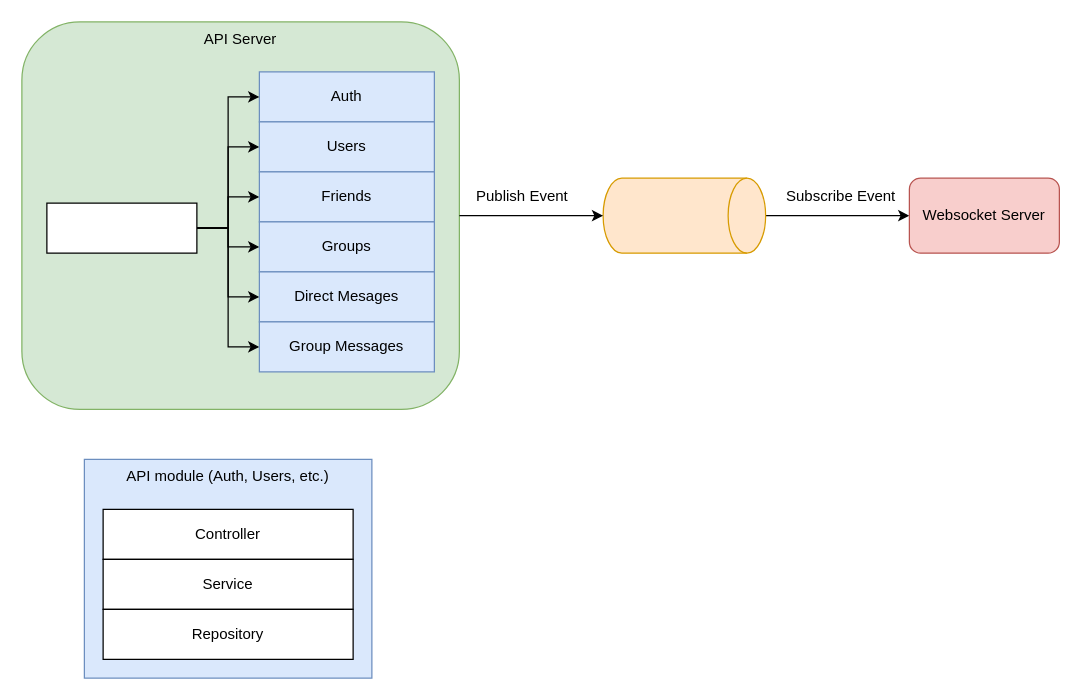
Image size: 1081x700. Some labels were removed from this diagram. The shapes that lost their labels are listed below. From the top down, each one's centre as x and y in pixels, then its label:
At [121,227]: "Router".
At [684,215]: "Redis".
